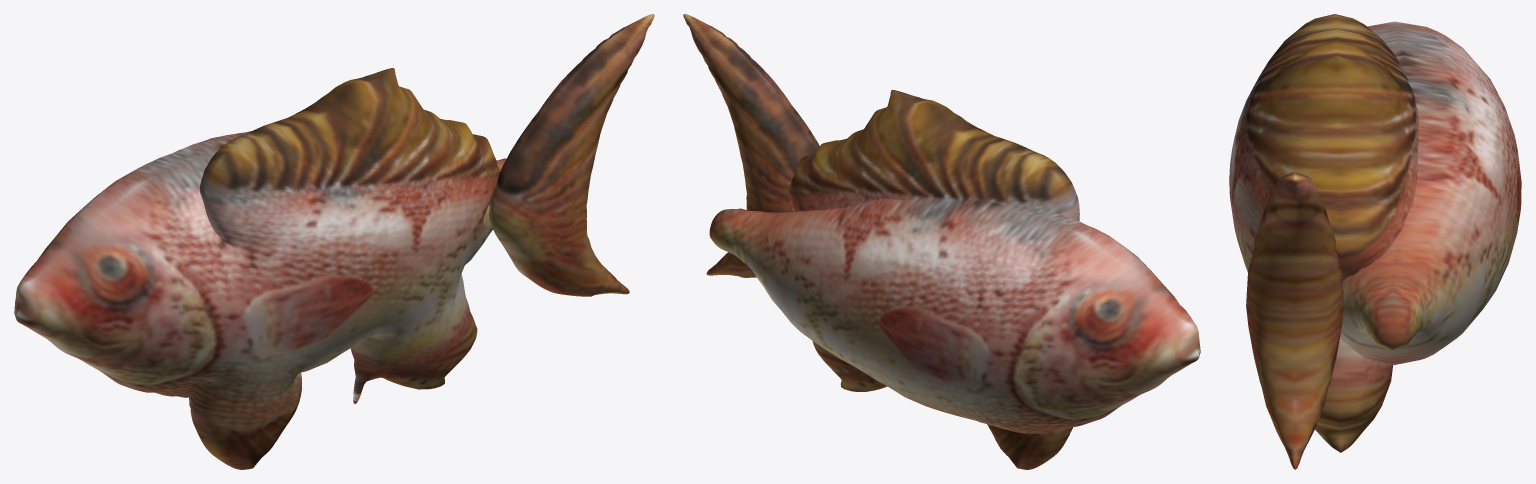
Rendered from A珠斑花鱸.glb.
3 views of the same model, side by side, from view 1: azimuth 30°, elevation 25°; view 2: azimuth 150°, elevation 25°; view 3: azimuth 270°, elevation 25° (orthographic). The views are drawn at different scales.
Bounding box in the file's own units: 3.14 × 1.91 × 1.2.
1 material, 1 textured.
